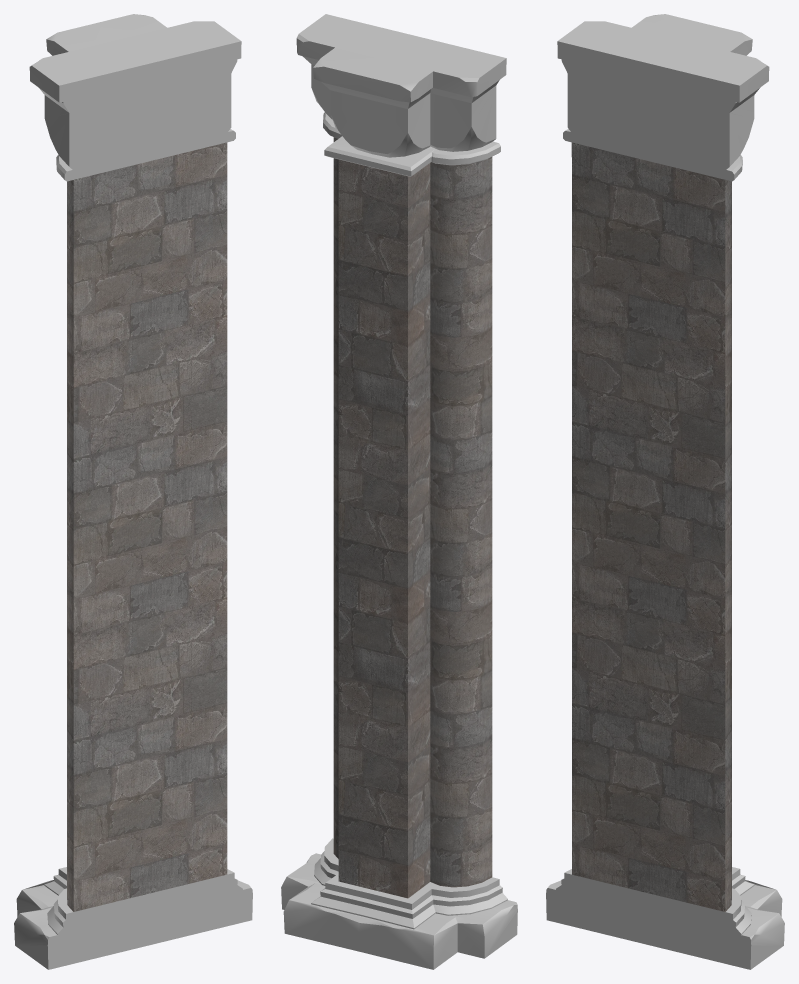
3 views of the same model, side by side, from view 1: azimuth 30°, elevation 25°; view 2: azimuth 150°, elevation 25°; view 3: azimuth 330°, elevation 25° (orthographic).
Visible parts, largest first — view 1: SM_Dungeon_RoomCentralColumn_v1_LOD0; view 2: SM_Dungeon_RoomCentralColumn_v1_LOD0; view 3: SM_Dungeon_RoomCentralColumn_v1_LOD0.
Part boxes in pixels (<box>): SM_Dungeon_RoomCentralColumn_v1_LOD0: <box>14,14,252,969</box>; SM_Dungeon_RoomCentralColumn_v1_LOD0: <box>281,14,517,969</box>; SM_Dungeon_RoomCentralColumn_v1_LOD0: <box>546,14,784,969</box>.
Size of the model in its own units: 1.46 by 6 by 0.715.
